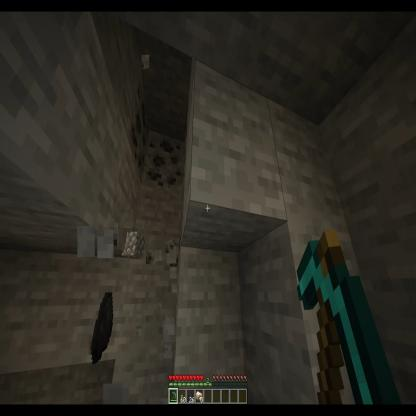coal ore: (144, 133, 187, 192), (129, 79, 150, 187)
